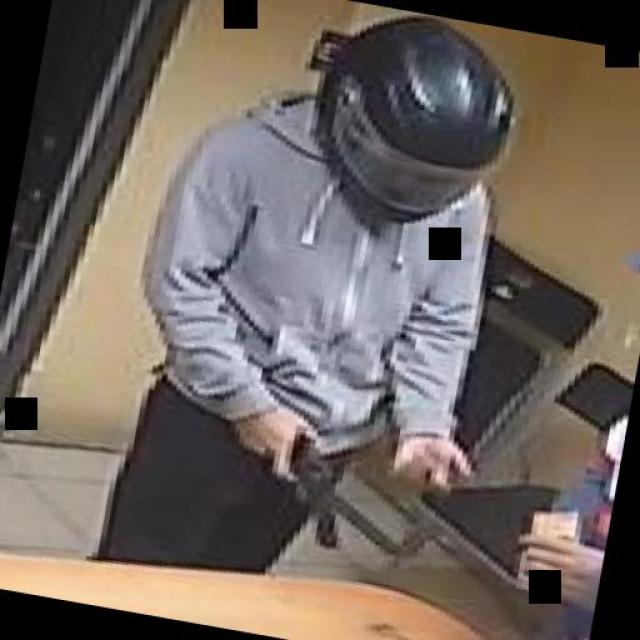gun: (218, 409, 356, 549)
